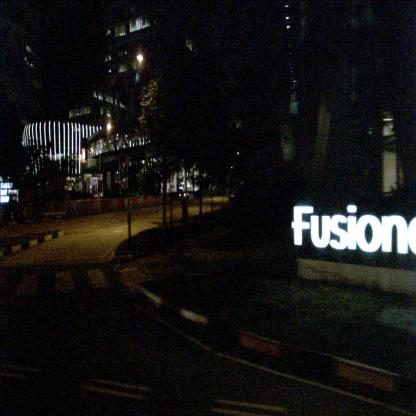movable_object-barrier: (79, 200, 91, 216), (71, 200, 82, 216), (90, 199, 100, 213), (143, 196, 154, 206), (104, 198, 111, 213), (136, 196, 144, 209), (108, 199, 118, 209), (98, 200, 106, 212), (131, 198, 139, 209), (120, 197, 128, 207), (116, 196, 122, 209), (154, 196, 160, 205), (159, 196, 164, 206)
